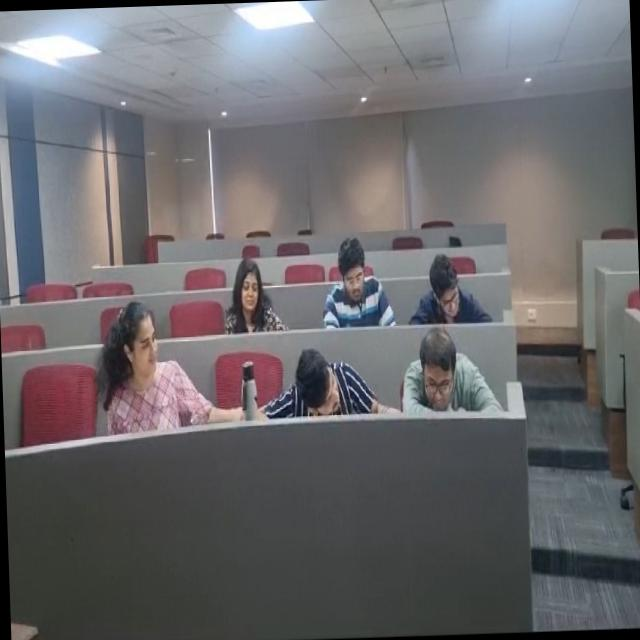cheating: (89, 286, 186, 430), (246, 337, 380, 429), (395, 316, 482, 428)
non-cheating: (394, 248, 492, 330), (321, 221, 386, 329), (218, 244, 292, 336)
